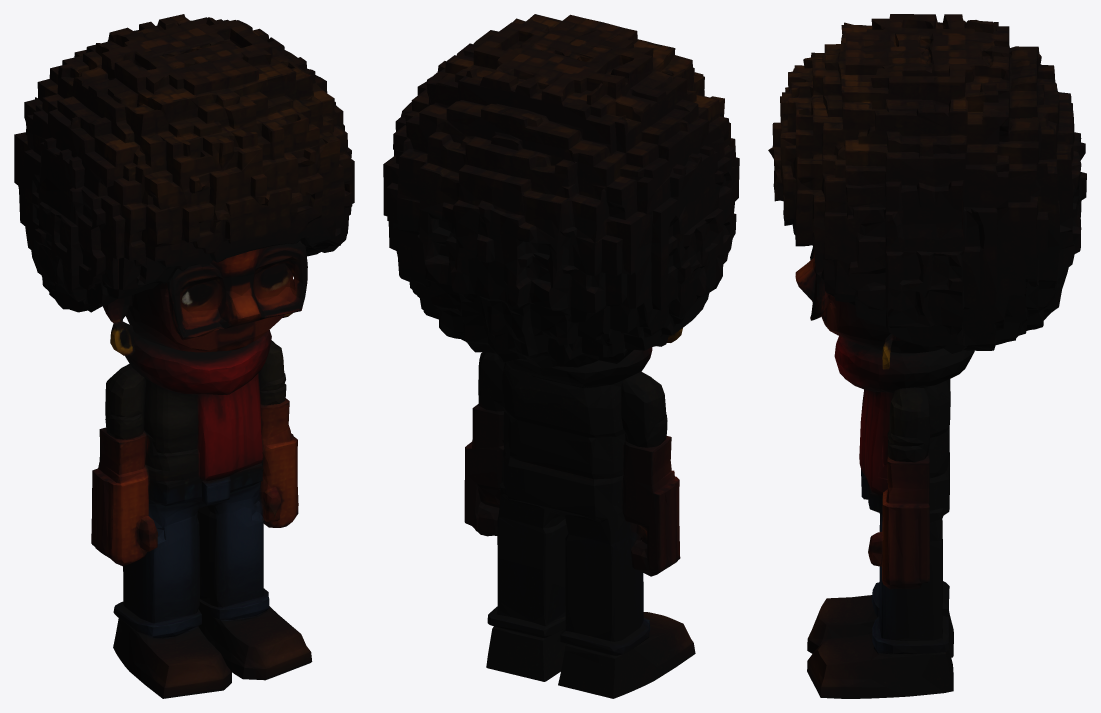
File: sample.glb
The picture shows the model from 3 angles, left to right: view 1: azimuth 30°, elevation 25°; view 2: azimuth 150°, elevation 25°; view 3: azimuth 270°, elevation 25°; orthographic projection. The views are drawn at different scales.
Visible parts, largest first — view 1: world; view 2: world; view 3: world.
Boxes of the visible parts, x1=… form: world: x1=14, y1=14, x2=354, y2=698; world: x1=383, y1=14, x2=739, y2=698; world: x1=768, y1=14, x2=1086, y2=698.
Size of the model in its own units: 0.4747 by 0.9996 by 0.471.
1 material, 1 textured.
